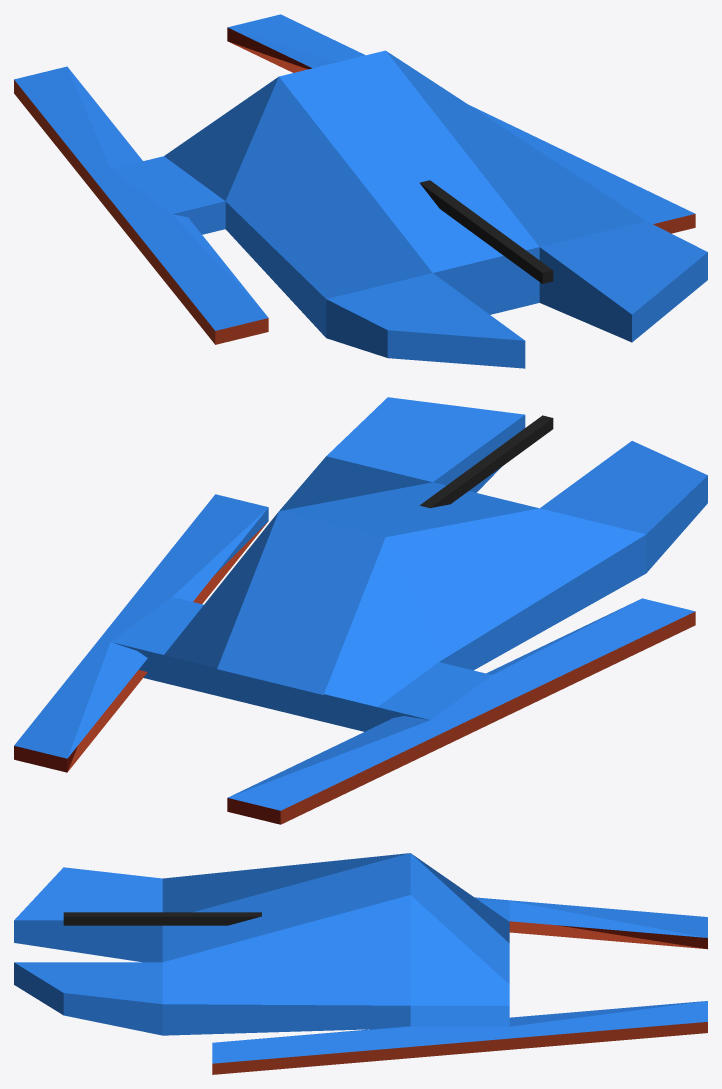
File: Tanks.fbx_Collection.fbx
The picture shows the model from 3 angles, top to bottom: view 1: azimuth 30°, elevation 25°; view 2: azimuth 150°, elevation 25°; view 3: azimuth 270°, elevation 25°; orthographic projection. The views are drawn at different scales.
Visible parts, largest first — view 1: Hovertank; view 2: Hovertank; view 3: Hovertank.
Part boxes in pixels (box(x1,y1,x2,y2)): Hovertank: box(14, 14, 707, 368); Hovertank: box(14, 397, 707, 824); Hovertank: box(14, 853, 707, 1074).
Bounding box in the file's own units: 900 × 250 × 1400.
